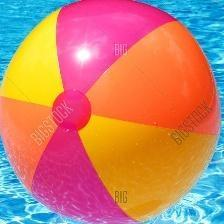Sports-Ball: (3, 0, 219, 222)
